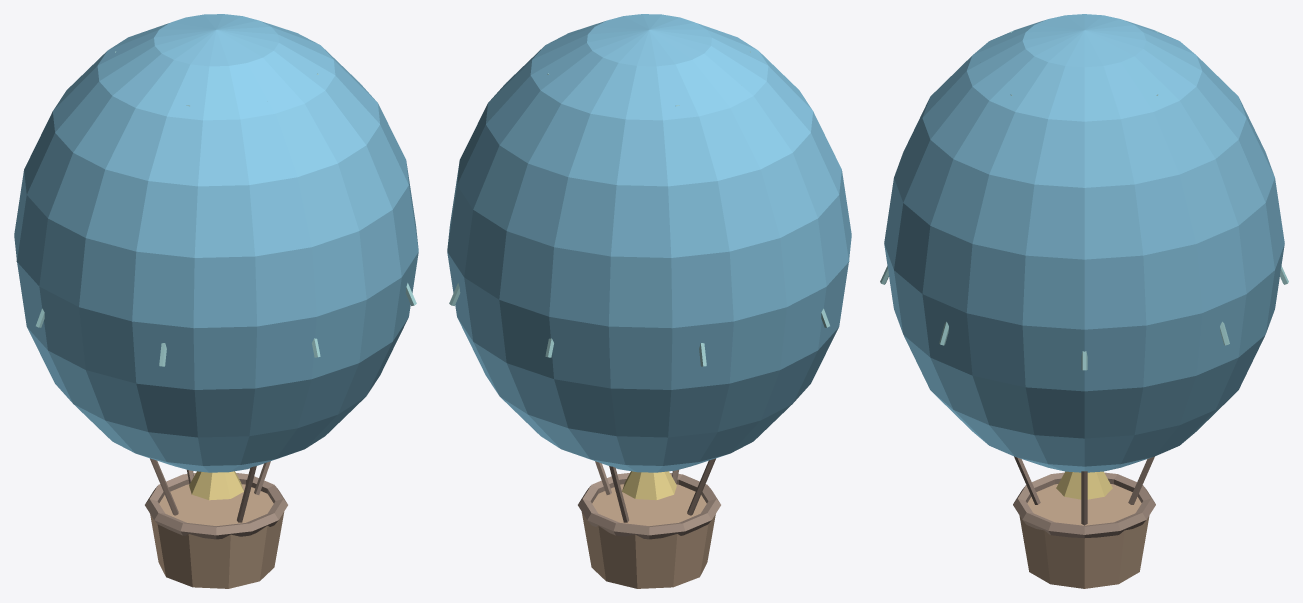
The model's file is globo_azul.glb.
3 views of the same model, side by side, from view 1: azimuth 30°, elevation 25°; view 2: azimuth 150°, elevation 25°; view 3: azimuth 270°, elevation 25° (orthographic).
Visible parts, largest first — view 1: globo_azul; view 2: globo_azul; view 3: globo_azul.
Boxes of the visible parts, <box> form: globo_azul: <box>14,14,418,588</box>; globo_azul: <box>447,14,851,588</box>; globo_azul: <box>880,14,1288,588</box>.
Bounding box in the file's own units: 3.22 × 4.56 × 3.16.
